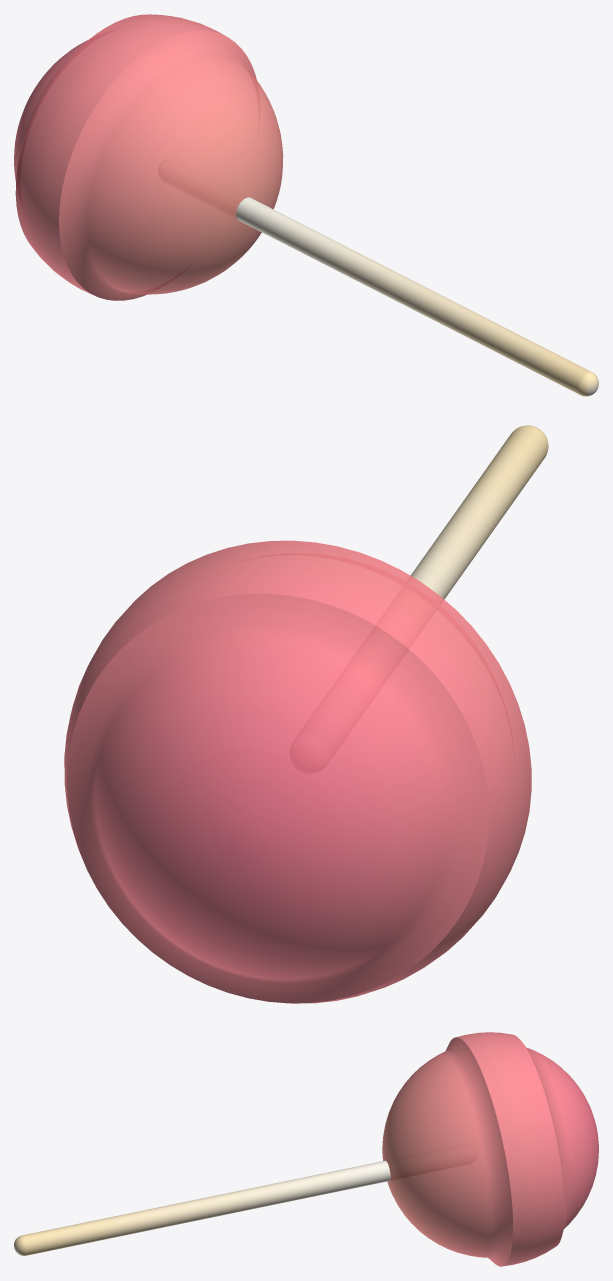
The model's file is asset.glb.
3 renders of one model, top to bottom at view 1: azimuth 30°, elevation 25°; view 2: azimuth 150°, elevation 25°; view 3: azimuth 270°, elevation 25°, orthographic. The views are drawn at different scales.
Visible parts, largest first — view 1: Sphere - baked, Cylinder; view 2: Sphere - baked, Cylinder; view 3: Sphere - baked, Cylinder.
Part boxes in pixels (box(x1,y1,x2,y2)): Sphere - baked: box(14, 14, 283, 300); Cylinder: box(236, 197, 598, 396); Sphere - baked: box(64, 540, 531, 1003); Cylinder: box(410, 425, 548, 599); Sphere - baked: box(382, 1032, 598, 1266); Cylinder: box(14, 1160, 390, 1255).
Bounding box in the file's own units: 0.107 × 0.095 × 0.2365.
Materials: 2 (2 with a texture image).
